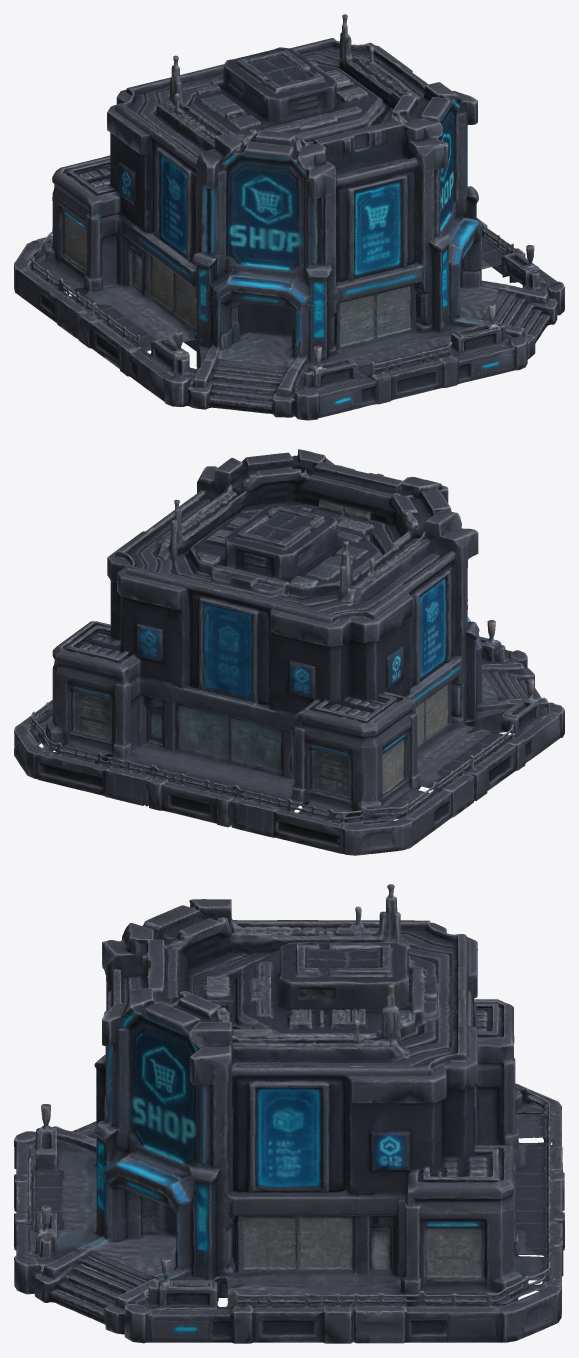
Rendered from s12Shop_LOD1.glb.
3 renders of one model, top to bottom at view 1: azimuth 30°, elevation 25°; view 2: azimuth 150°, elevation 25°; view 3: azimuth 270°, elevation 25°, orthographic. The views are drawn at different scales.
Visible parts, largest first — view 1: Mesh_0.005; view 2: Mesh_0.005; view 3: Mesh_0.005.
Part boxes in pixels (bbox=[...]): Mesh_0.005: bbox=[14, 14, 564, 420]; Mesh_0.005: bbox=[14, 449, 564, 855]; Mesh_0.005: bbox=[14, 884, 564, 1343].
Size of the model in its own units: 1.9 by 1.11 by 1.9.
Materials: 1 (1 with a texture image).
